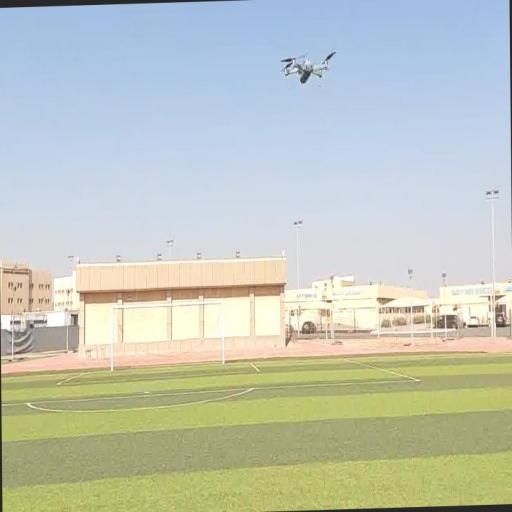drone: (279, 44, 339, 90)
